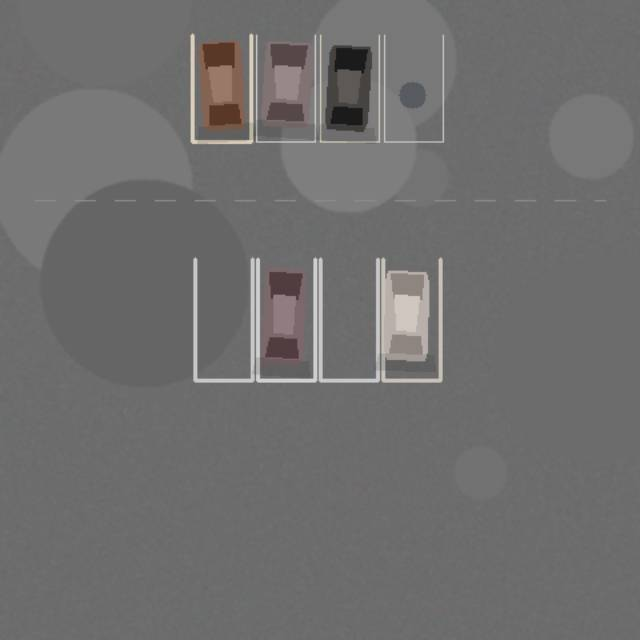space-empty: (195, 259, 252, 380), (320, 259, 377, 380), (384, 35, 443, 141)
space-occupied: (257, 259, 315, 380), (383, 259, 440, 380), (192, 35, 251, 141), (256, 35, 315, 141), (320, 35, 379, 141)
